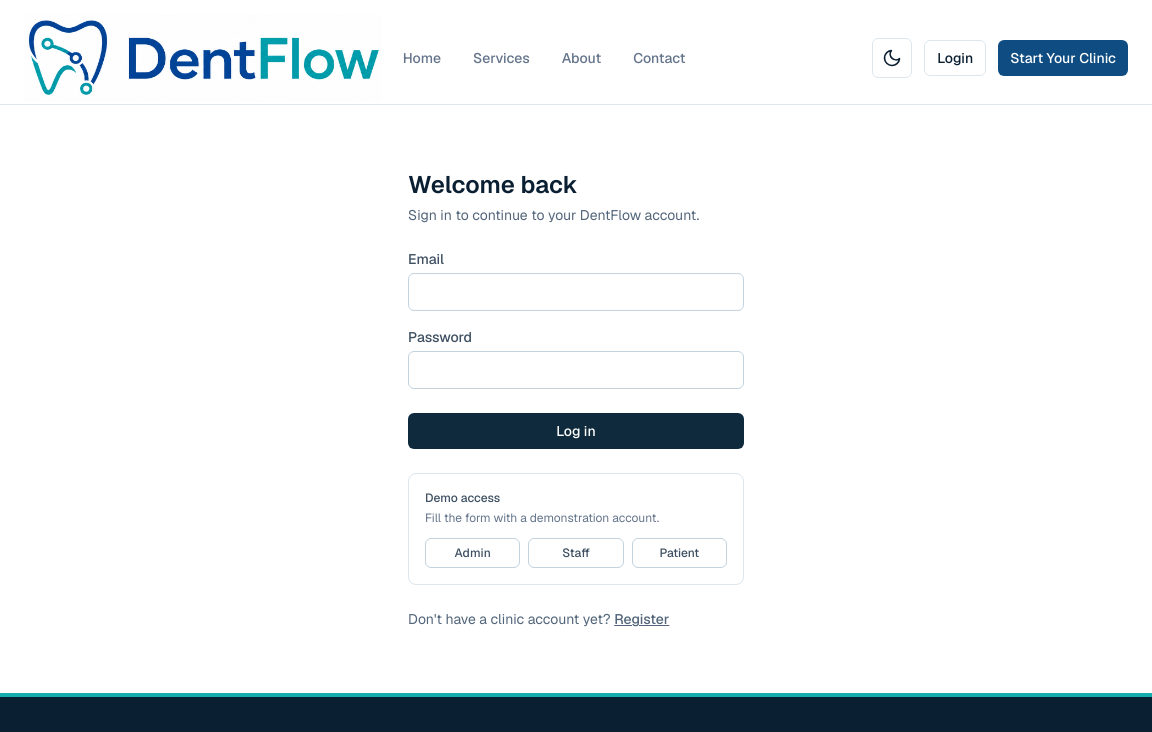
it: Login page › fills the expected credentials for the Admin demo button
This screenshot has width=1152, height=732.
Click the button "Admin" at (473, 553), box [425,538,520,568]
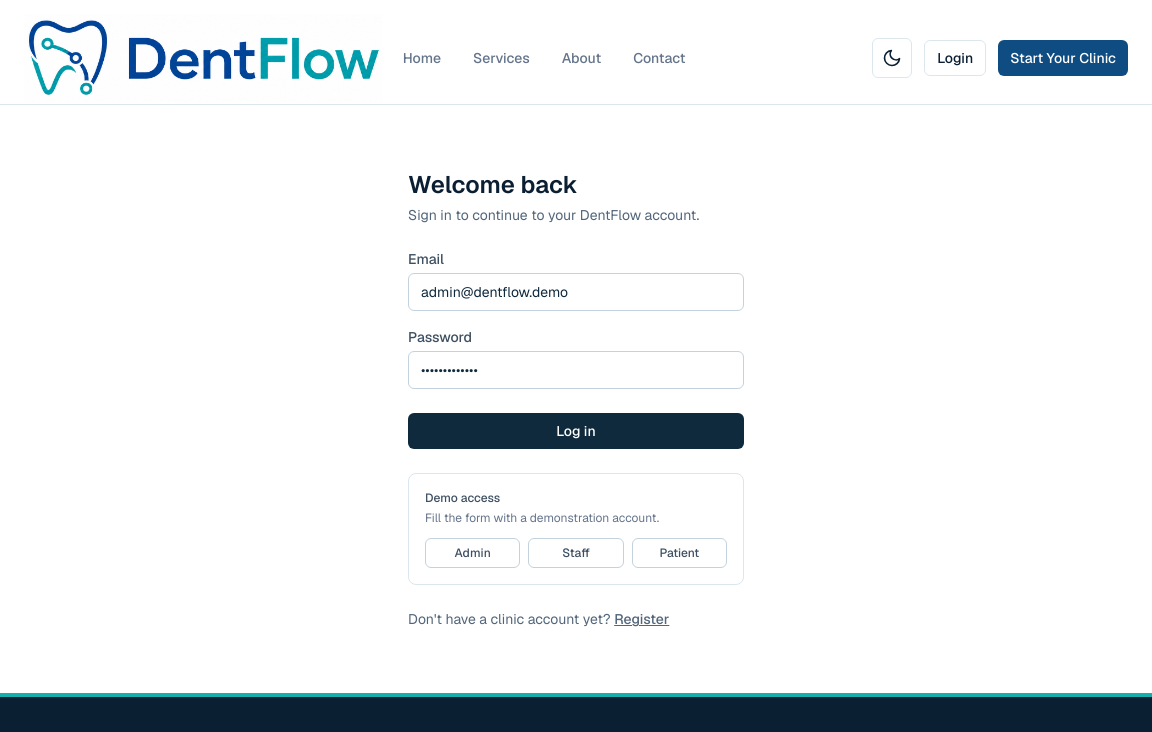
Now the field labelled "Email" holds "admin@dentflow.demo", box [408,273,744,311]
Now the password field labelled "Password" holds "DemoAdmin123!", box [408,351,744,389]
